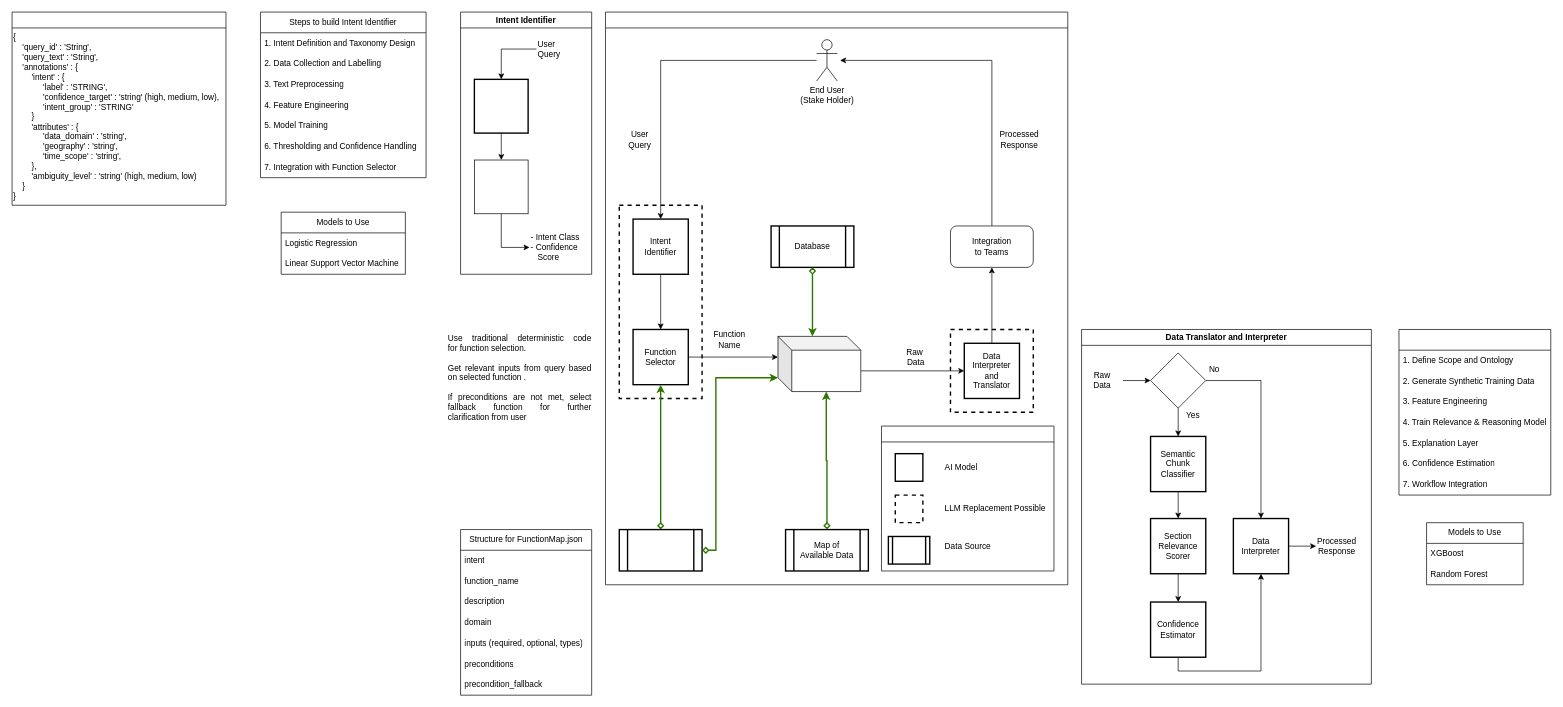
Image size: 1563x707. Some labels were removed from this diagram. Here are the shapes that lost their labels. From the top down, the box of each, then its label:
(11, 11, 226, 205): Input Data Structure for Intent Classifier
(473, 78, 528, 133): Intent Classifier
(474, 159, 528, 214): Intent Confidence Calculator
(605, 11, 1068, 585): ChatBot Workflow
(777, 336, 861, 392): Code Executor
(1150, 352, 1206, 408): Text Content?
(1398, 329, 1551, 495): Steps to build Data Interpreter
(881, 425, 1054, 571): Mapping
(618, 529, 702, 571): Map of Functions
